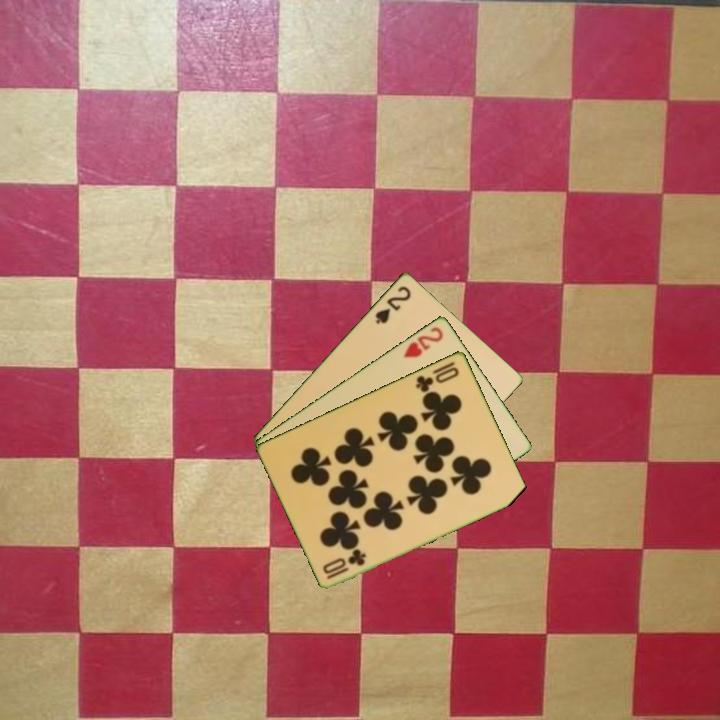10c: (412, 358, 462, 395), (319, 546, 369, 582)
2h: (400, 323, 446, 360)
2s: (371, 282, 414, 327)
